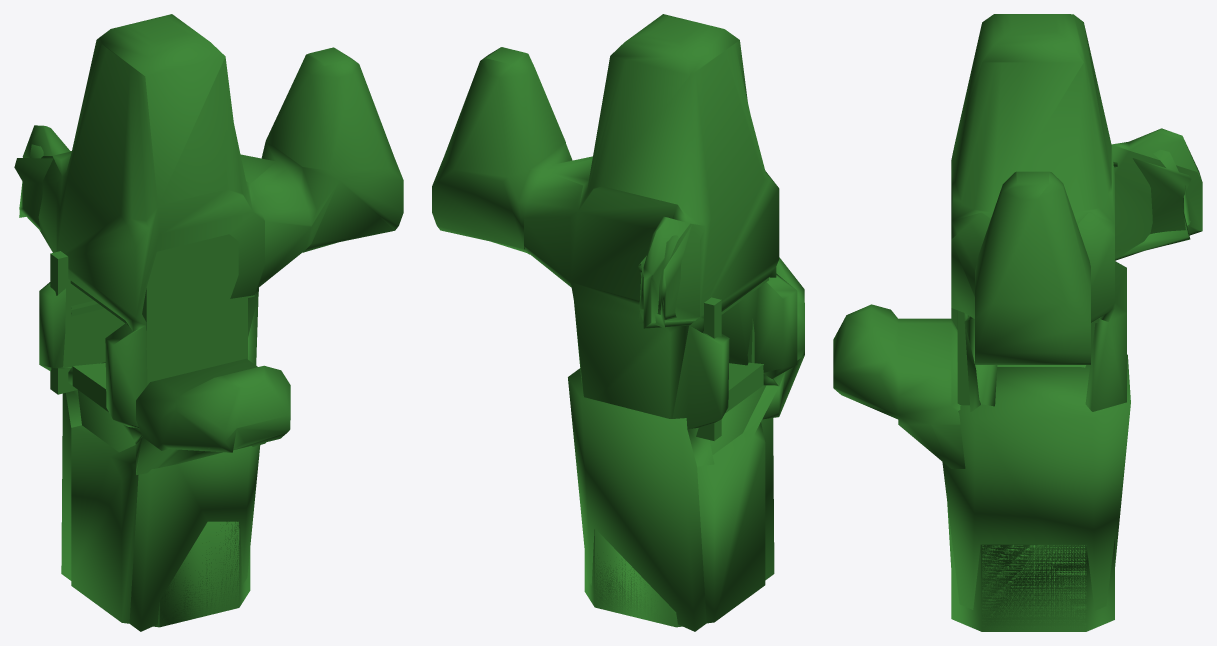
The model's file is cactus.fbx.
3 renders of one model, left to right at view 1: azimuth 30°, elevation 25°; view 2: azimuth 150°, elevation 25°; view 3: azimuth 270°, elevation 25°, orthographic. The views are drawn at different scales.
Visible parts, largest first — view 1: Plane; view 2: Plane; view 3: Plane.
Boxes of the visible parts, <box> form: Plane: <box>14,14,403,631</box>; Plane: <box>432,14,804,631</box>; Plane: <box>833,14,1202,631</box>.
Size of the model in its own units: 159 by 283 by 164.
